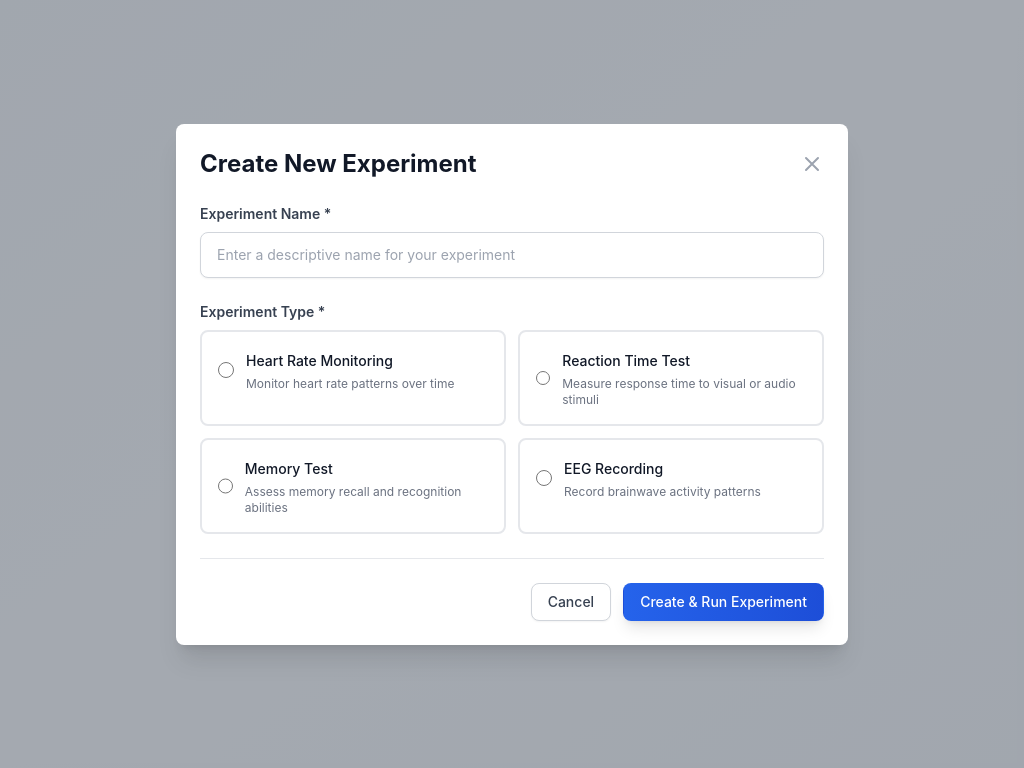
Test: ExperimentForm › clears validation errors when user starts typing
Note: Trigger validation error
Click the button "Create & Run Experiment".
click(724, 602)  # box [623,582,824,620]
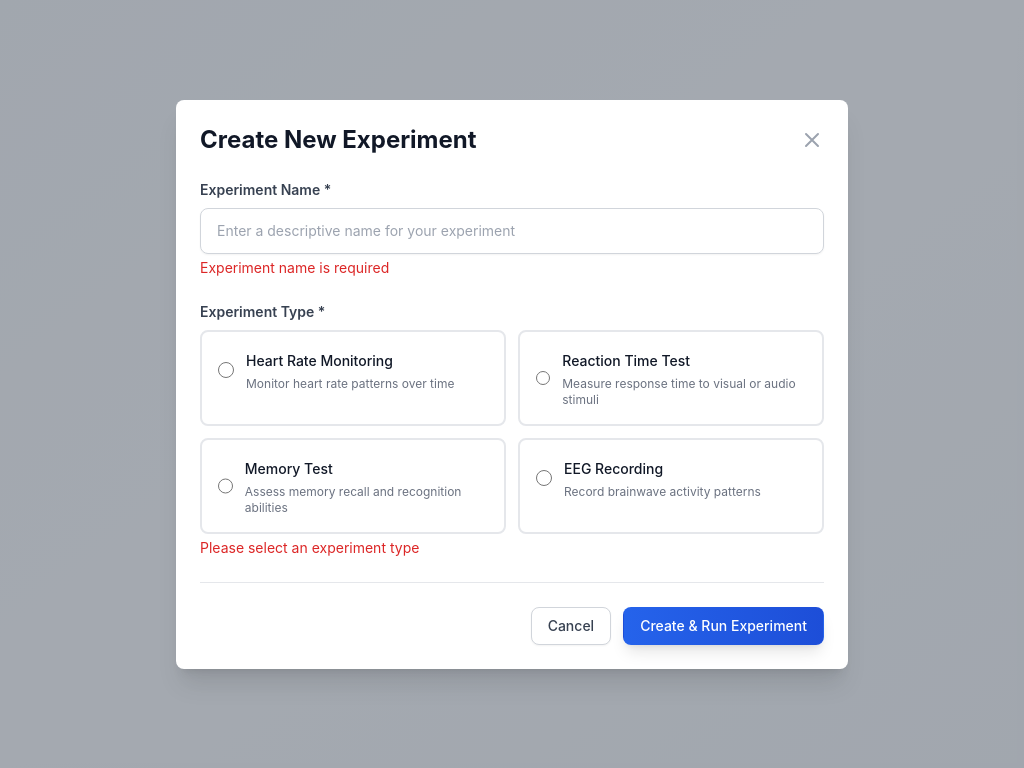
Expected: the text "Experiment name is required" is shown, [200,258,389,276]
Note: Start typing to clear error
Type "T" into the field labelled "Experiment Name *".
click(512, 230); type("T")  # box [200,208,824,254]
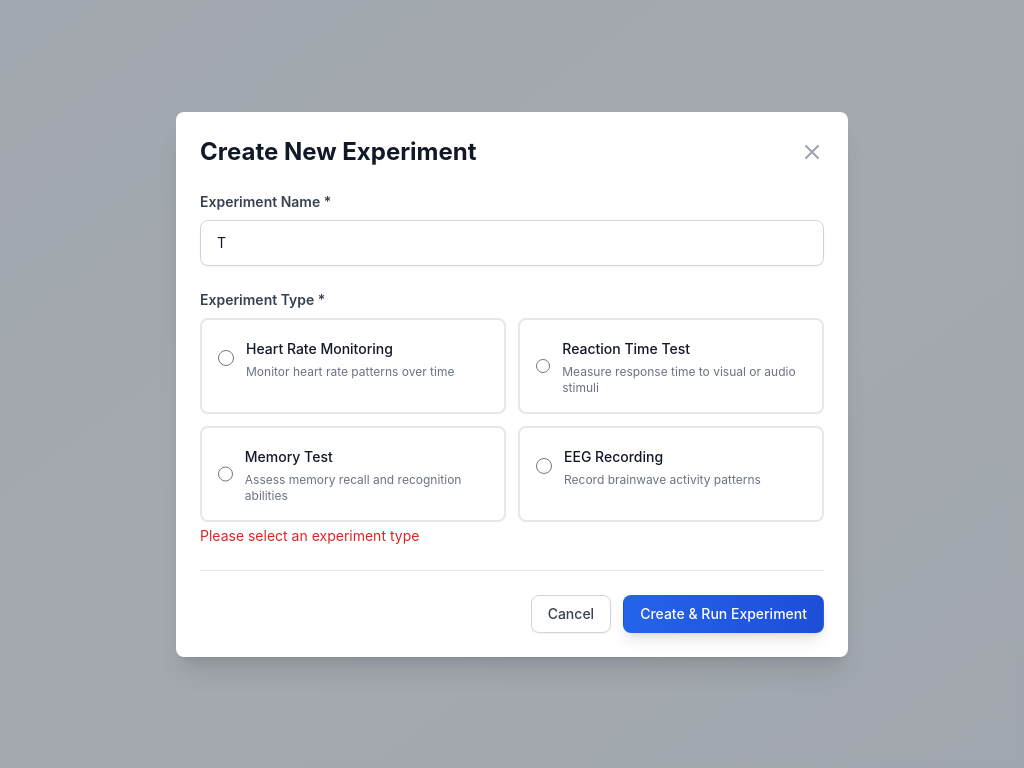
Expected: the text "Experiment name is required" is gone
